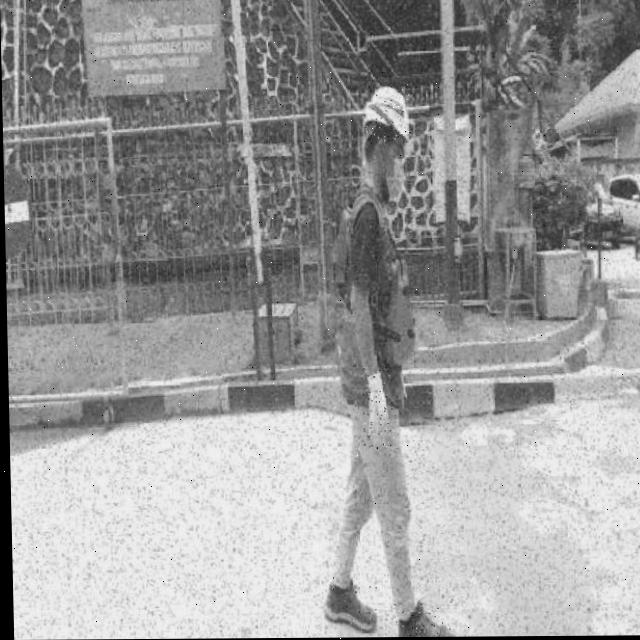No-Glove: (346, 371, 399, 463)
Safety-Boot: (320, 580, 374, 633), (393, 600, 450, 638)
Safety-Vest: (328, 199, 415, 410)
